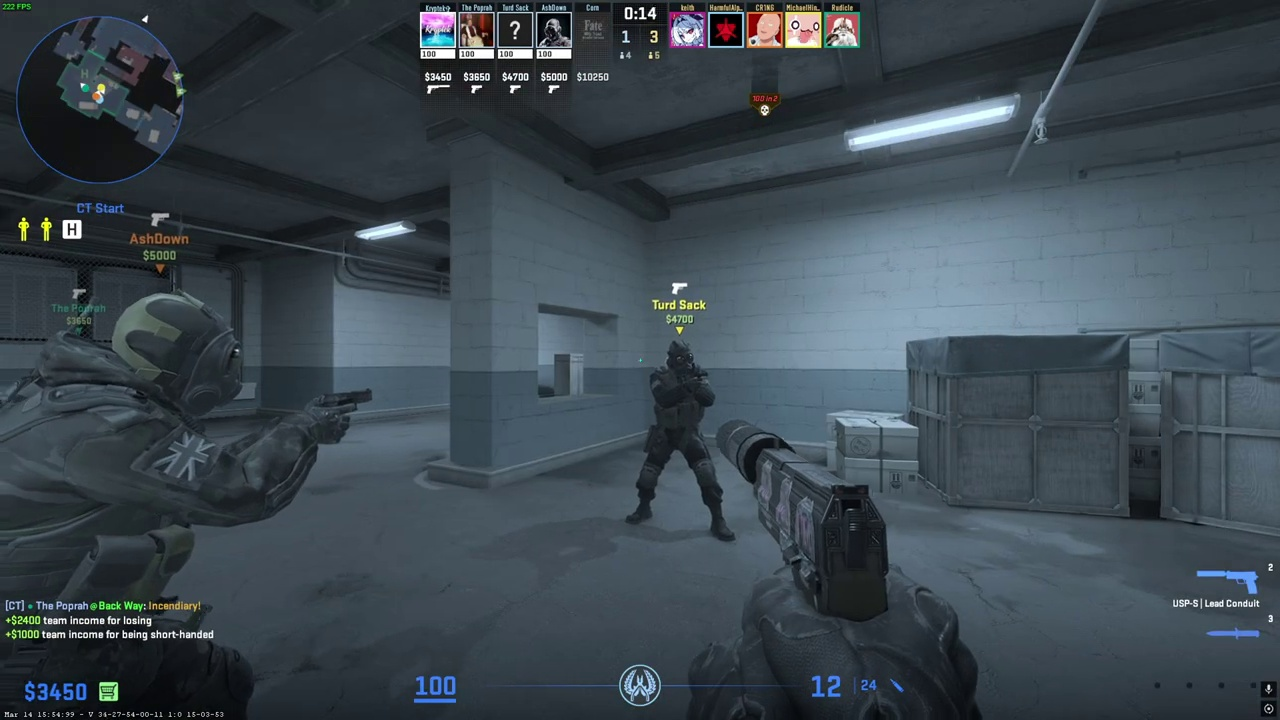CT: (0, 294, 266, 720), (632, 340, 728, 541)
